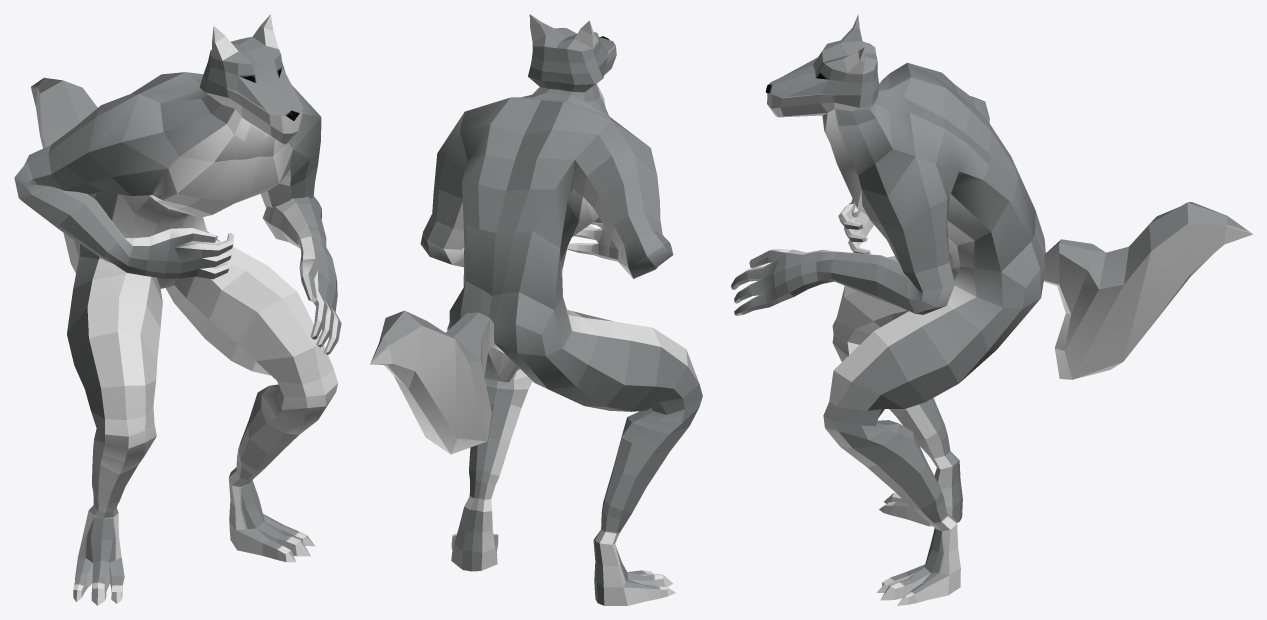
Rendered from WolfIdle_(106).obj.
3 renders of one model, left to right at view 1: azimuth 30°, elevation 25°; view 2: azimuth 150°, elevation 25°; view 3: azimuth 270°, elevation 25°, orthographic. The views are drawn at different scales.
Visible parts, largest first — view 1: Box001; view 2: Box001; view 3: Box001.
Boxes of the visible parts, x1,y1,x2,y2 form: Box001: [14, 14, 341, 605]; Box001: [370, 14, 702, 605]; Box001: [731, 14, 1252, 605].
Bounding box in the file's own units: 68.37 × 132 × 116.
